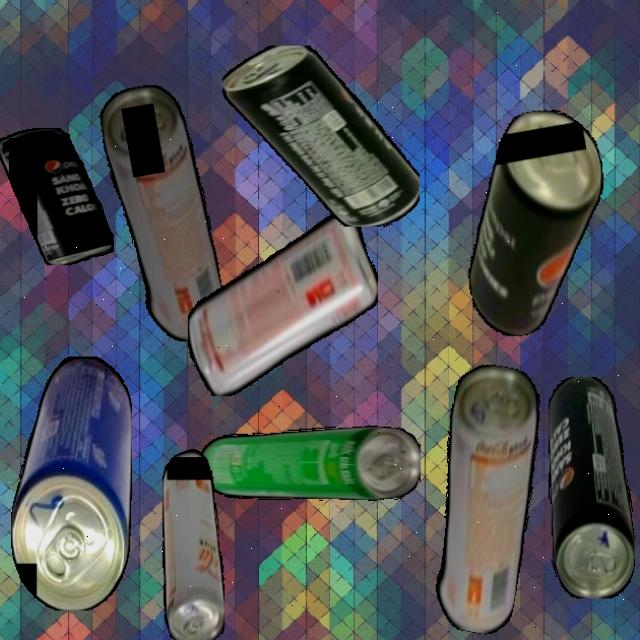debris: (442, 101, 629, 342), (414, 360, 554, 638), (96, 80, 230, 348), (187, 209, 378, 396), (222, 45, 419, 226), (10, 356, 132, 610), (547, 376, 635, 598), (199, 426, 421, 500), (0, 127, 114, 265), (162, 446, 224, 640)
